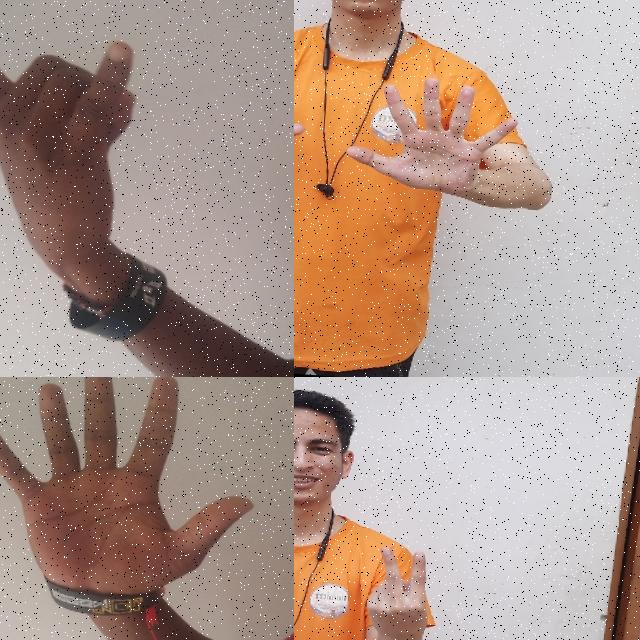Corna: (0, 0, 162, 313)
Moutza: (0, 377, 275, 632), (336, 62, 526, 208)
Reversed Victory: (355, 534, 437, 640)
